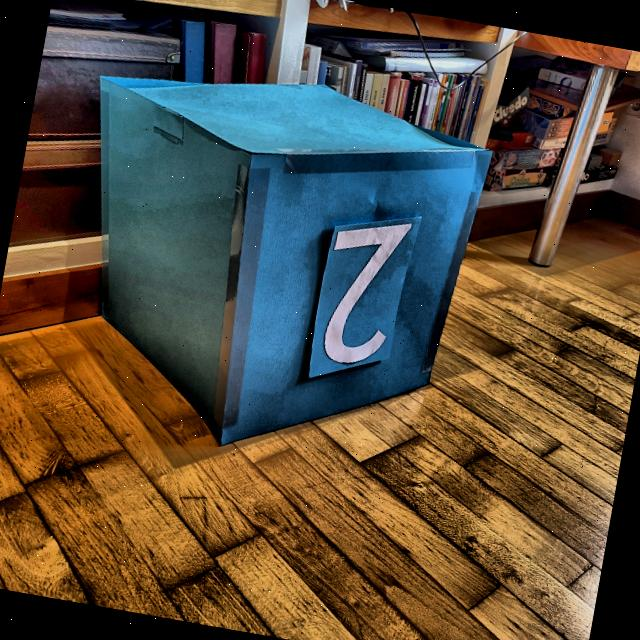blue box: (32, 32, 487, 488)
two: (298, 205, 419, 384)
